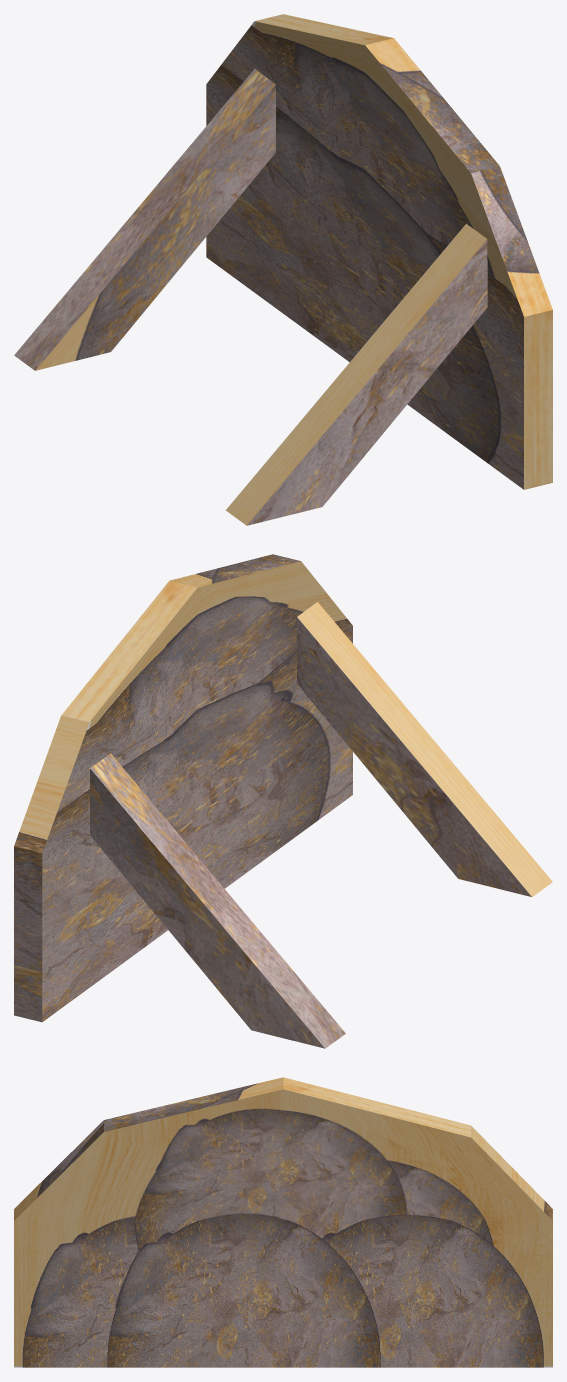
Rendered from boulder_pile_cutout.fbx.
3 views of the same model, one above another, from view 1: azimuth 30°, elevation 25°; view 2: azimuth 150°, elevation 25°; view 3: azimuth 270°, elevation 25° (orthographic). The views are drawn at different scales.
Parts seen in each view (by area): view 1: Cube; view 2: Cube; view 3: Cube.
Part boxes in pixels (box(x1,y1,x2,y2)): Cube: box(14, 14, 552, 525); Cube: box(14, 554, 552, 1048); Cube: box(14, 1077, 552, 1367).
Size of the model in its own units: 0.9805 by 1.15 by 2.
